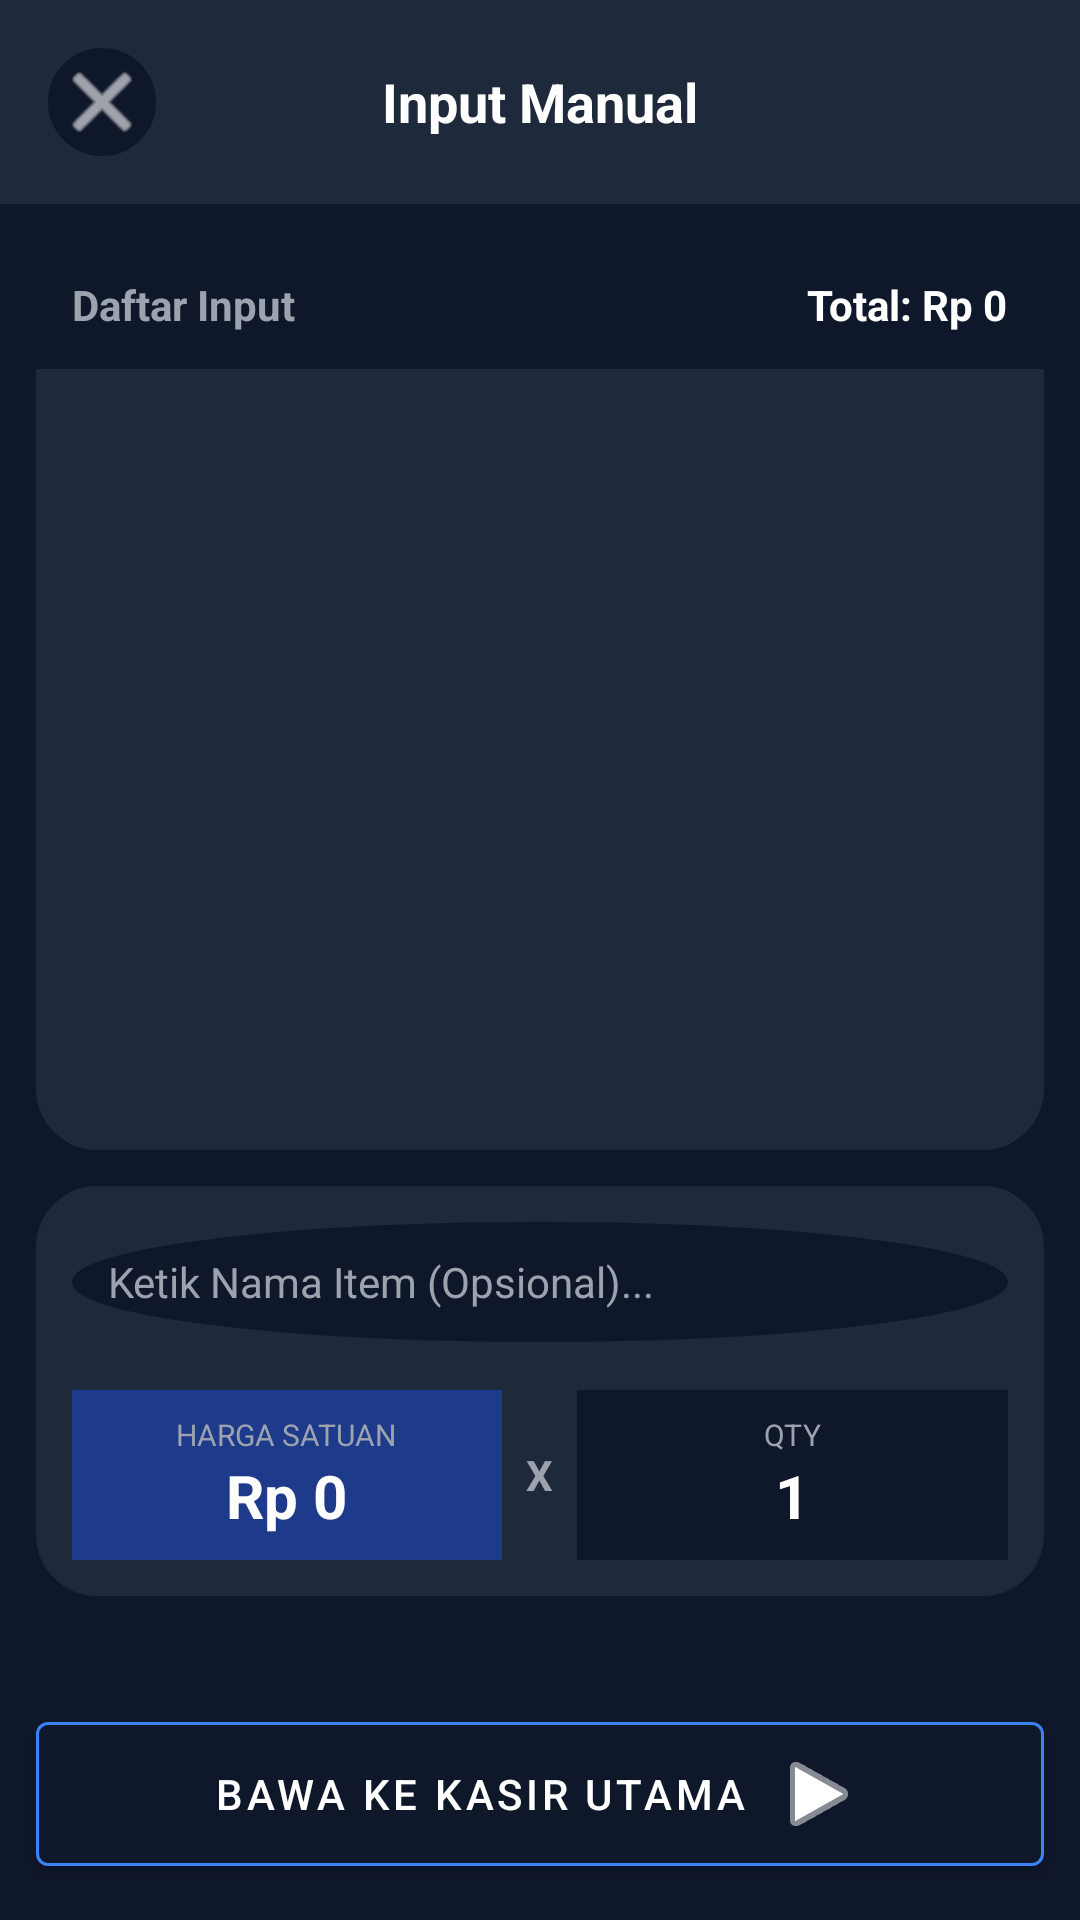

Icon bounding boxes for this 1080×1920 phone screenshot, format BBox(x1, y1, x2, y2):
close clear cancel: BBox(48, 48, 156, 156)
